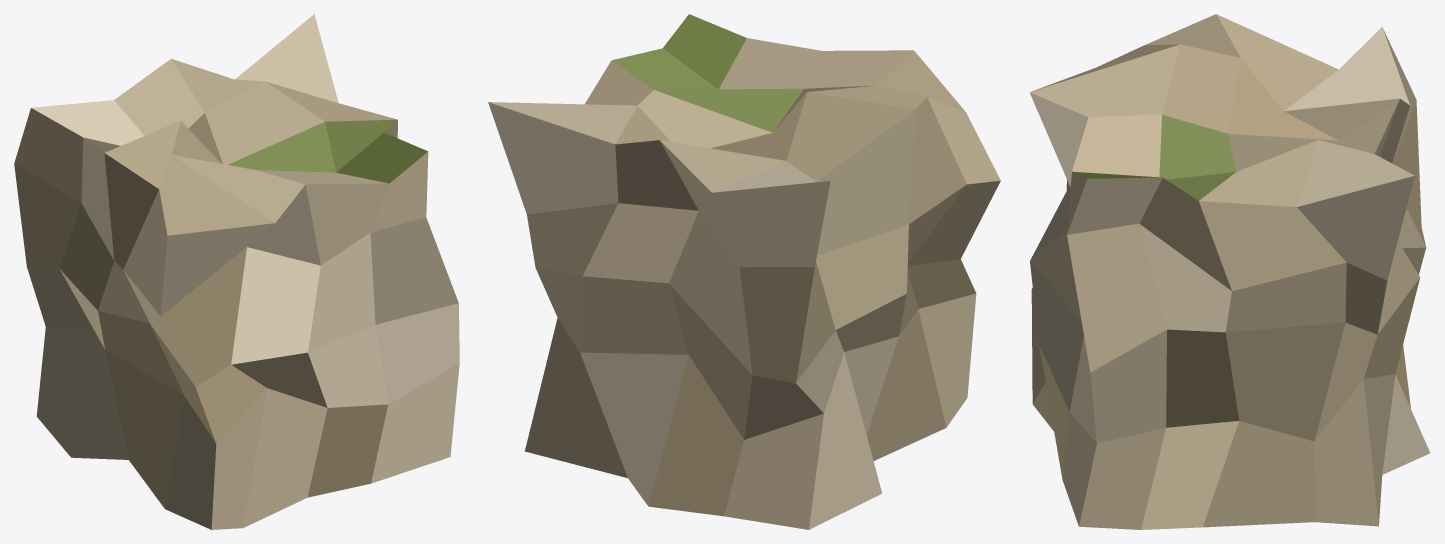
The model's file is Limestone_a.glb.
3 views of the same model, side by side, from view 1: azimuth 30°, elevation 25°; view 2: azimuth 150°, elevation 25°; view 3: azimuth 270°, elevation 25° (orthographic). The views are drawn at different scales.
Parts seen in each view (by area): view 1: Limestone_a; view 2: Limestone_a; view 3: Limestone_a.
Part boxes in pixels (box(x1,y1,x2,y2)): Limestone_a: box(14, 14, 459, 529); Limestone_a: box(488, 14, 1000, 529); Limestone_a: box(1029, 14, 1430, 529).
Size of what is drawn, in the model's own units: 1 by 1 by 1.
1 material, 1 textured.
